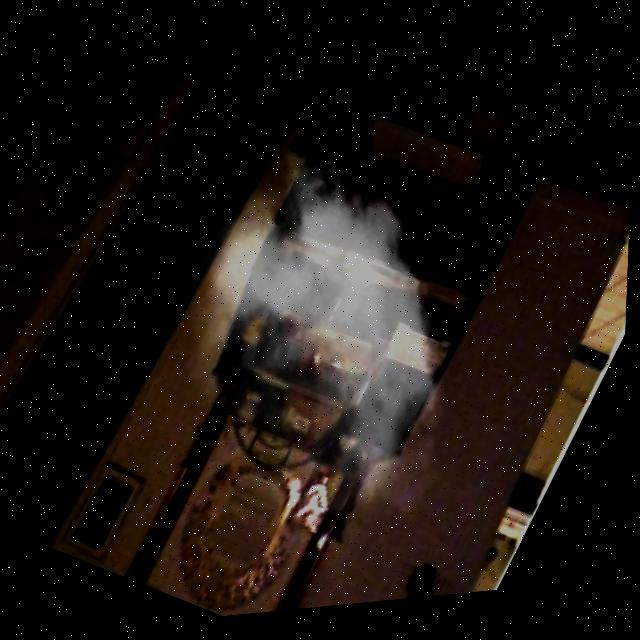Smoke: (69, 114, 566, 607)
